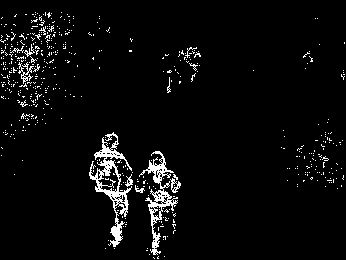person: (89, 129, 132, 249), (135, 147, 180, 258)
